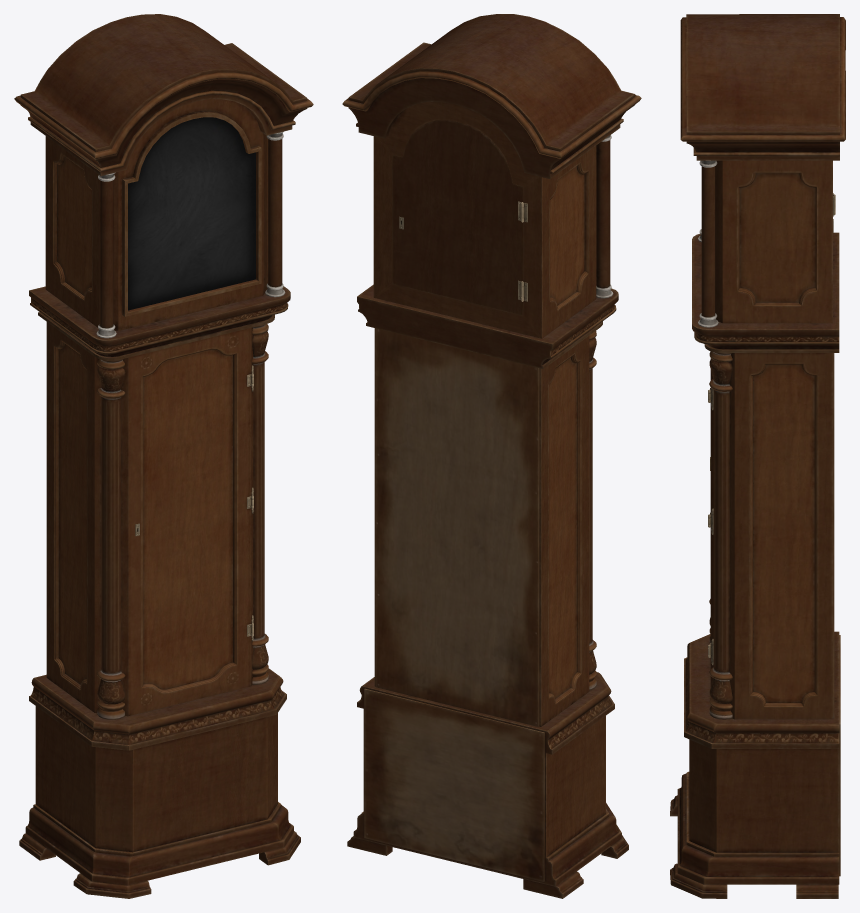
Rendered from vintage_grandfather_clock_01.glb.
3 renders of one model, left to right at view 1: azimuth 30°, elevation 25°; view 2: azimuth 150°, elevation 25°; view 3: azimuth 270°, elevation 25°, orthographic. The views are drawn at different scales.
Parts seen in each view (by area): view 1: vintage_grandfather_clock_01_Body; view 2: vintage_grandfather_clock_01_Body; view 3: vintage_grandfather_clock_01_Body.
Part boxes in pixels (bbox=[...]): vintage_grandfather_clock_01_Body: bbox=[14, 14, 313, 898]; vintage_grandfather_clock_01_Body: bbox=[342, 14, 641, 898]; vintage_grandfather_clock_01_Body: bbox=[670, 14, 845, 898].
Bounding box in the file's own units: 0.6256 × 2.19 × 0.4266.
2 materials, 2 textured.
